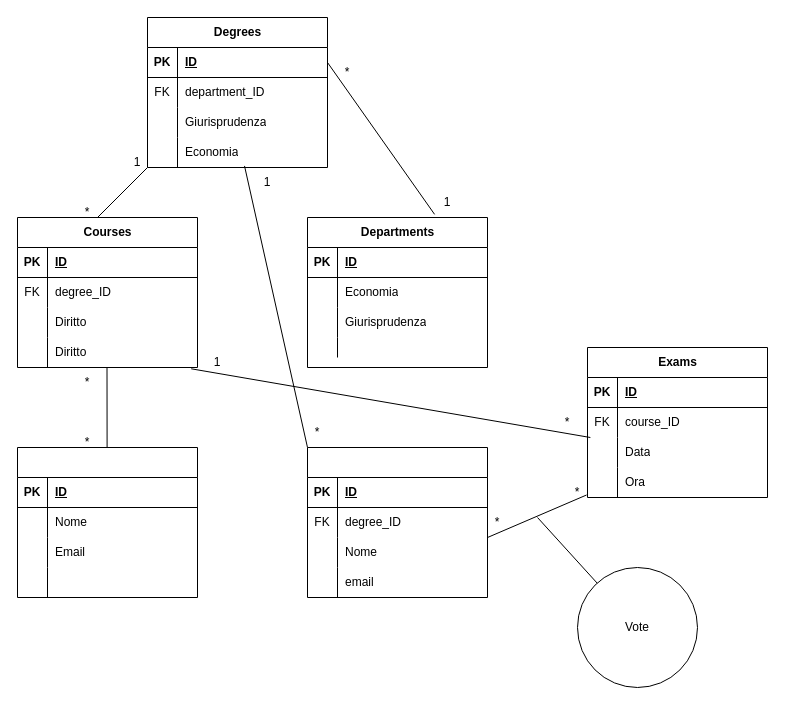
The diagram is 785 pixels wide and 705 high, and some of its shapes have lost their labels. The shapes that lost their labels are listed below. From the top down, each one's box as (x1, y1, x2, y2) in pixels, then its label:
(16, 446, 198, 598): Teachers
(306, 446, 488, 598): Students
